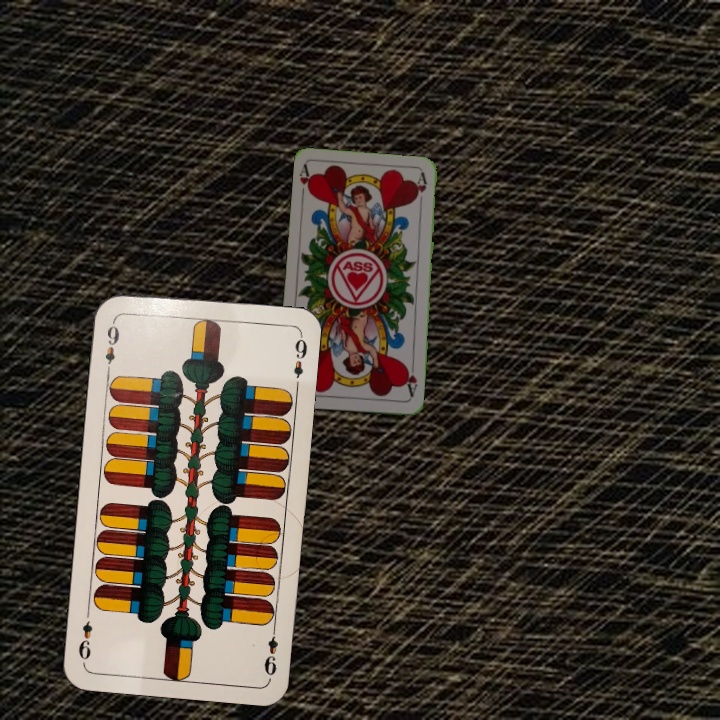E9: (101, 316, 122, 375), (260, 621, 281, 678)
HA: (296, 162, 316, 202), (401, 359, 420, 399)
